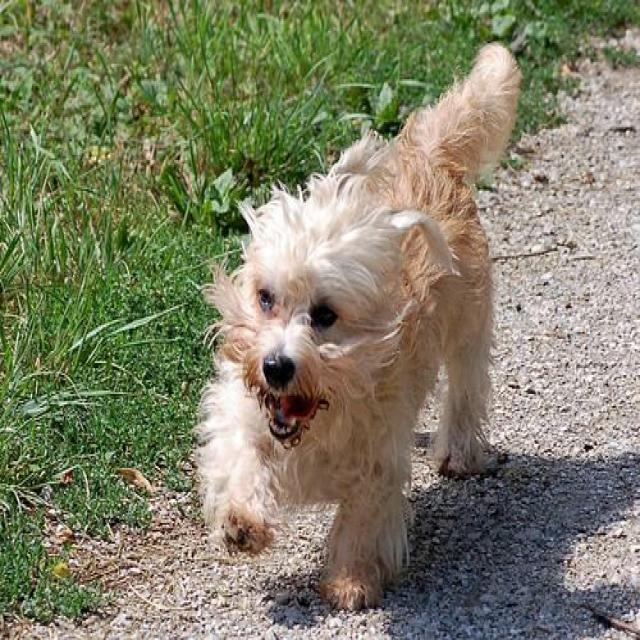dandie_dinmont: (190, 39, 520, 616)
